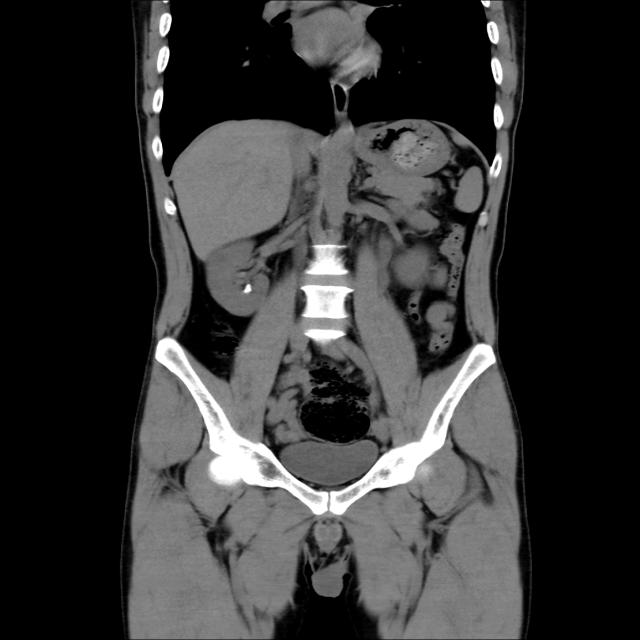kidneystone: (242, 284, 253, 293)
